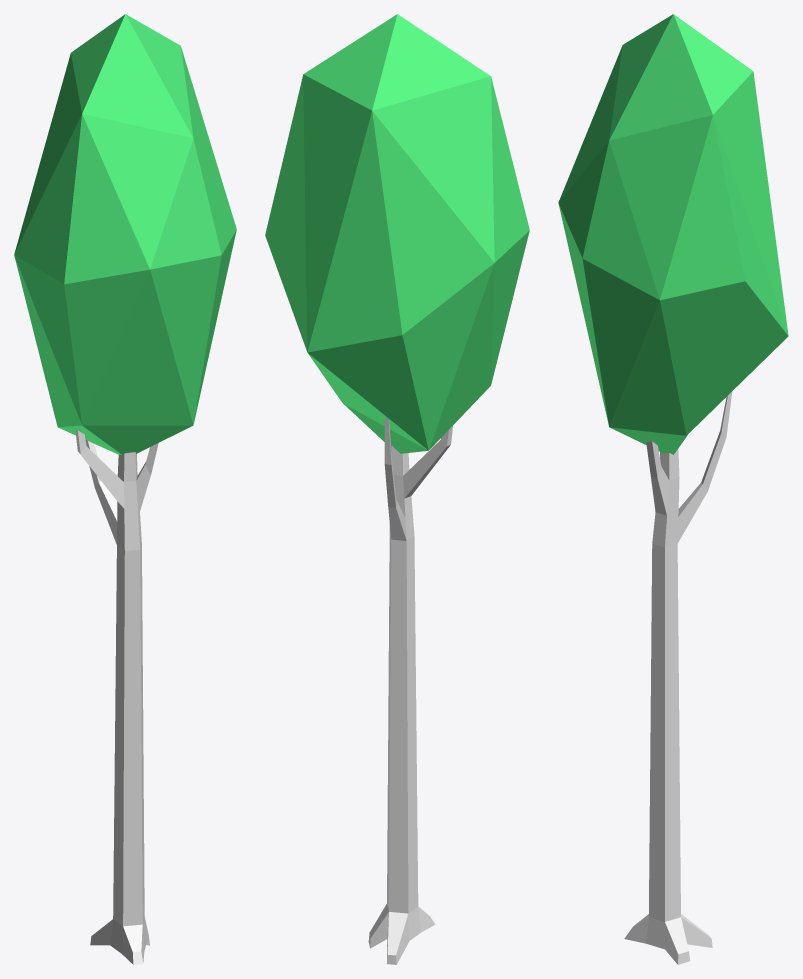
The model's file is tree.dae.
The picture shows the model from 3 angles, left to right: view 1: azimuth 30°, elevation 25°; view 2: azimuth 150°, elevation 25°; view 3: azimuth 270°, elevation 25°; orthographic projection.
Parts seen in each view (by area): view 1: tree, trunk; view 2: tree, trunk; view 3: tree, trunk.
Part boxes in pixels (x1,y1,x2,y2): tree: (14, 14, 236, 454); trunk: (75, 430, 158, 964); tree: (265, 14, 529, 453); trunk: (368, 417, 452, 964); tree: (558, 14, 788, 454); trunk: (624, 391, 732, 964).
Bounding box in the file's own units: 1229 × 5282 × 1175.
